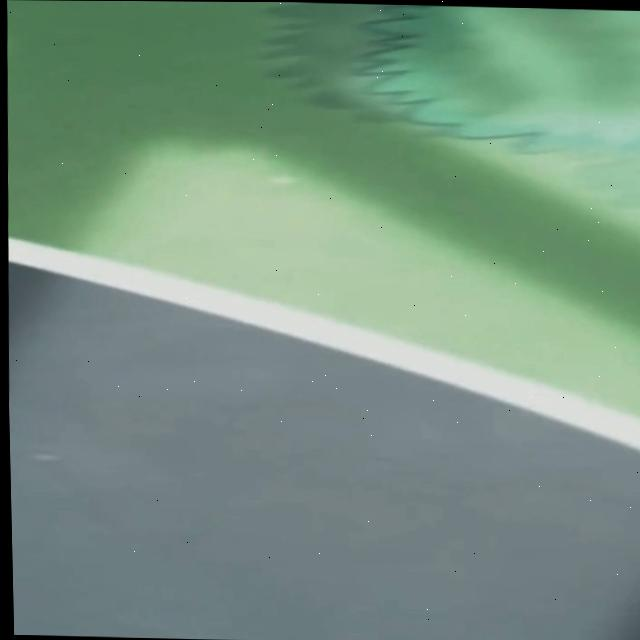right: (7, 238, 640, 452)
